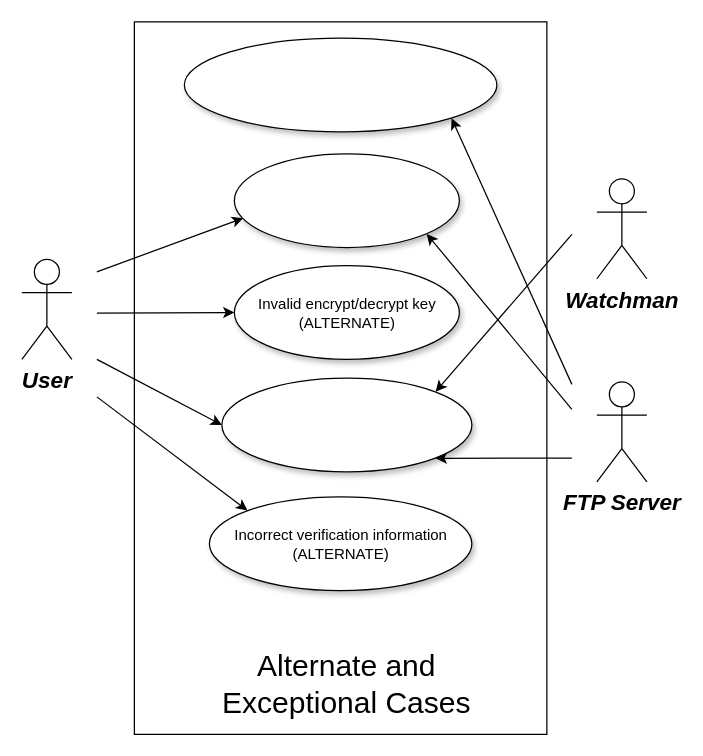
Some shapes in this 703 by 756 pixel diagram are drawn without their labels. The centre of each missing label's shape, as x and y in pixels:
"Local machine shuts down unexpectedly (EXCEPTIONAL)" goes at point 341,86.
"No new changes in re-synced file (ALTERNATE)" goes at point 347,426.
"No such file in server (ALTERNATE)" goes at point 347,202.
